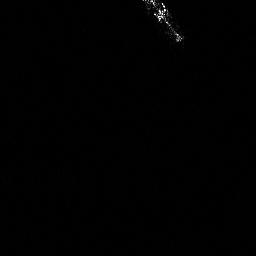ship: (139, 1, 186, 45)
